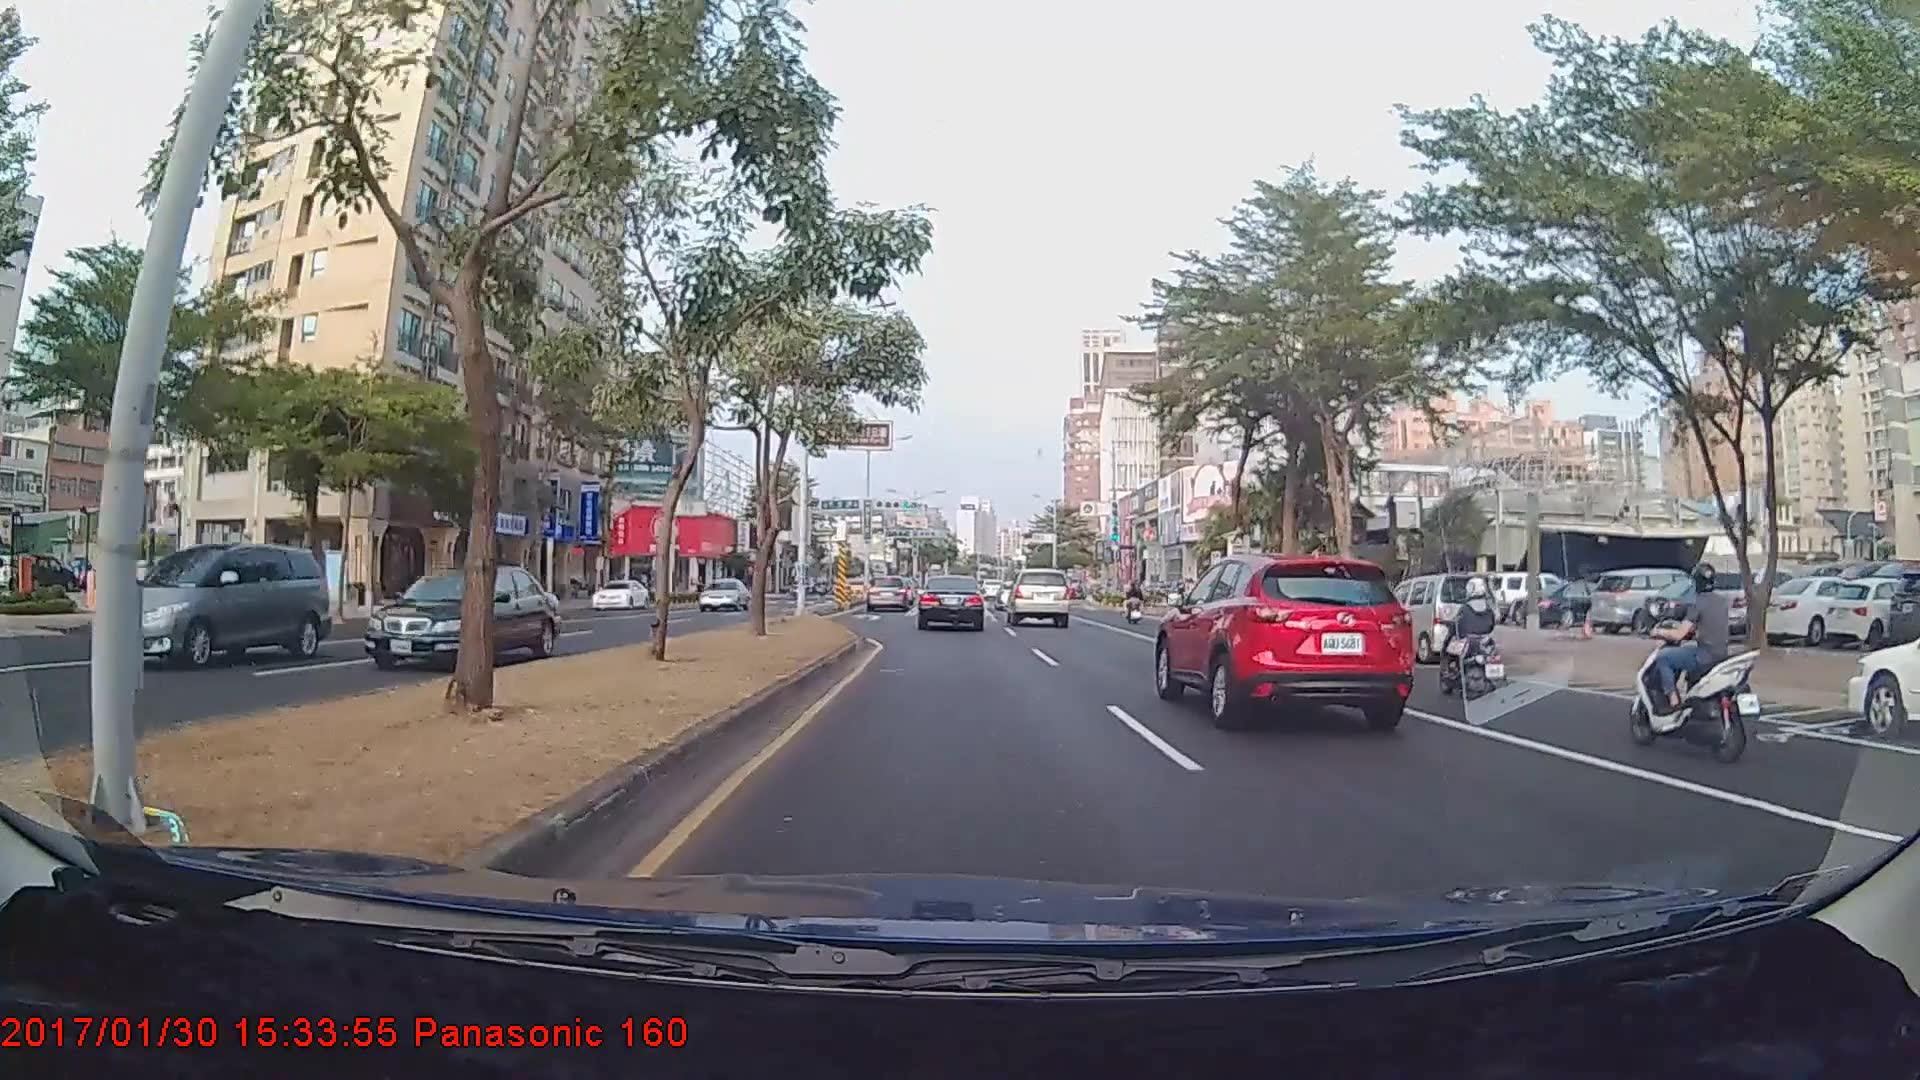rider: (1620, 555, 1770, 764), (1425, 573, 1519, 706), (1125, 585, 1152, 629)
vehicle: (1153, 549, 1412, 730), (99, 543, 333, 665), (361, 562, 558, 670), (1373, 573, 1498, 664), (1845, 592, 1920, 739), (1585, 569, 1712, 636), (916, 574, 985, 631), (1006, 566, 1071, 627), (864, 573, 915, 614), (696, 576, 750, 613), (590, 578, 649, 611)
